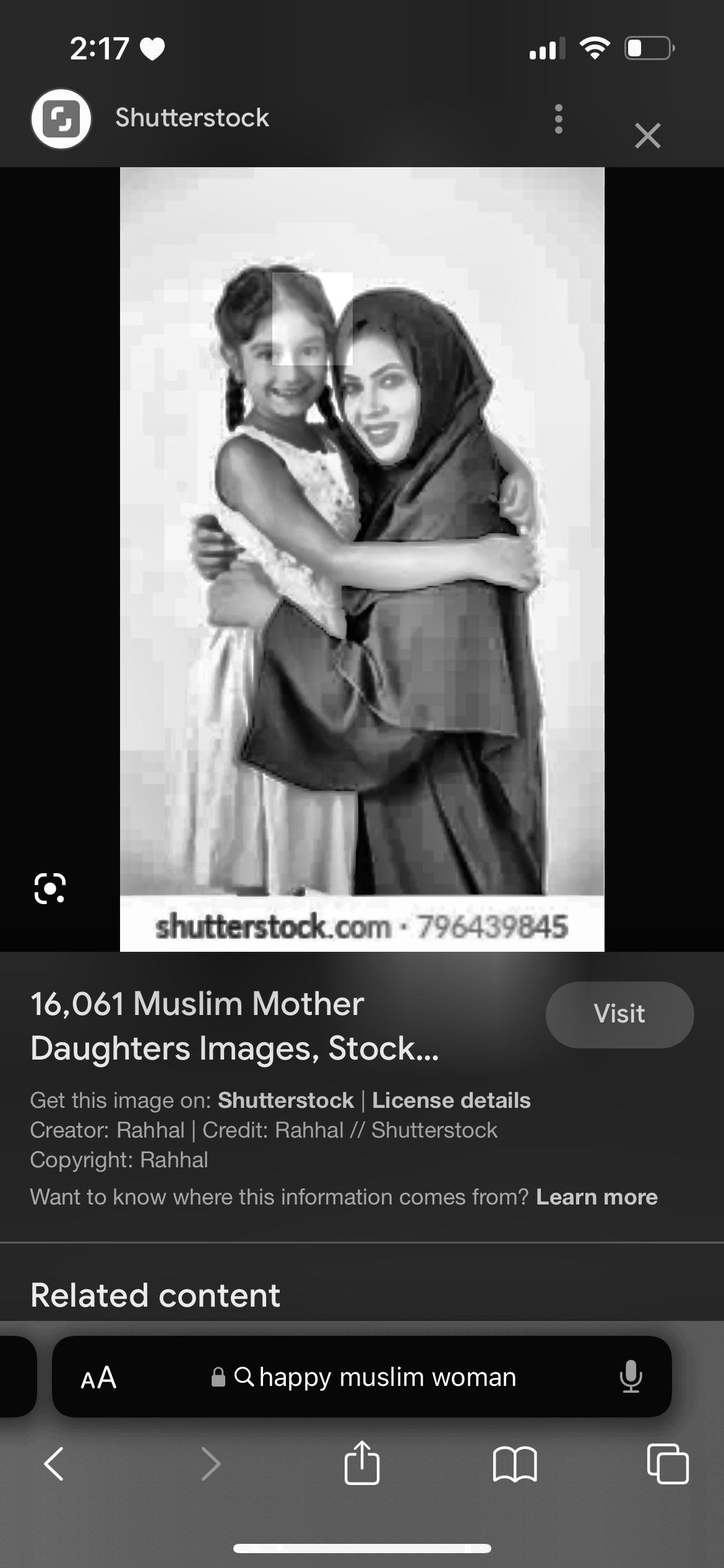happy: (236, 322, 325, 417)
